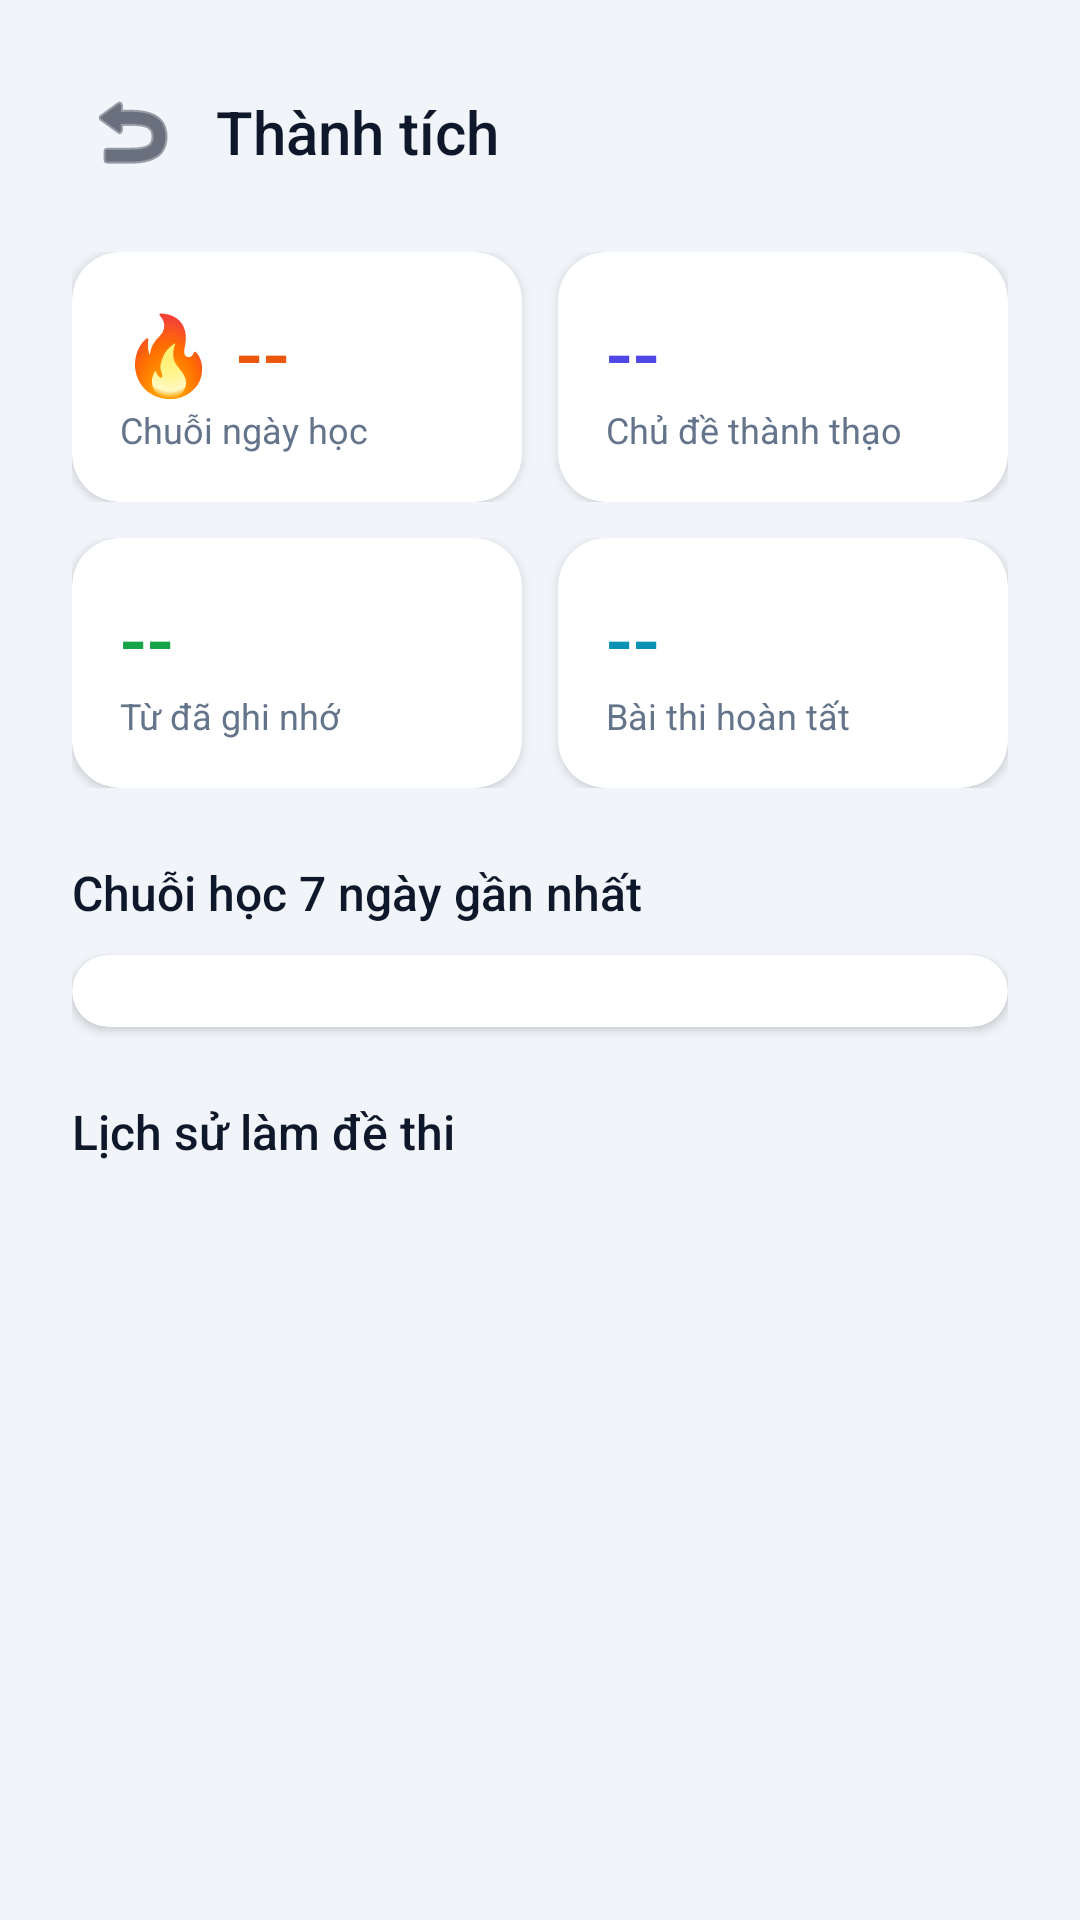

Icons on this 1080 x 1920 Android screen, each with its box as (x1, y1, x2, y2):
revert: (99, 101, 168, 164)
